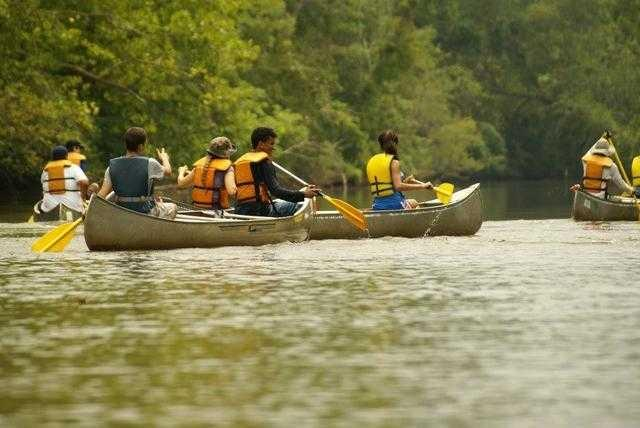kayak: (83, 195, 312, 250), (309, 181, 483, 239), (570, 132, 639, 218), (569, 184, 640, 222)
